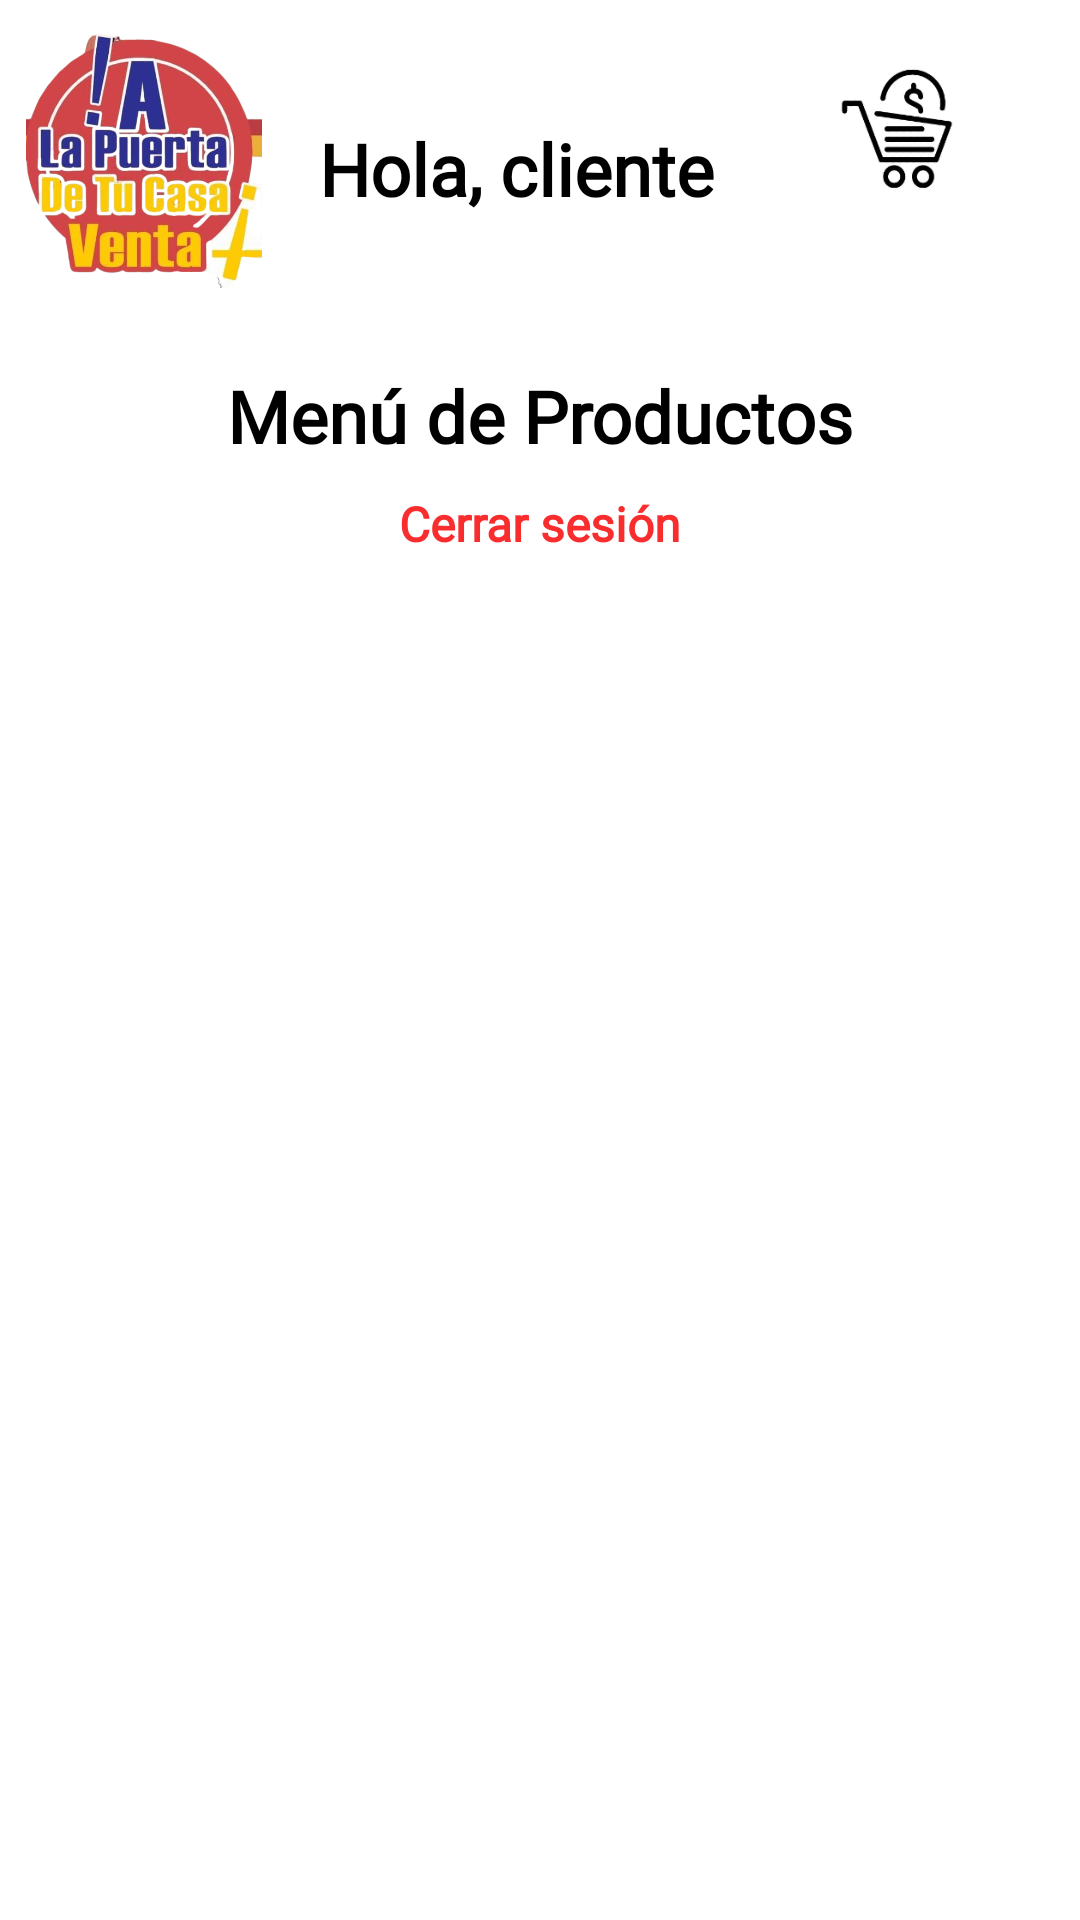

Named icons in this screenshot (1080px x 1920px) and their centers, (x=x, y=y):
carrito: (x=897, y=128)
